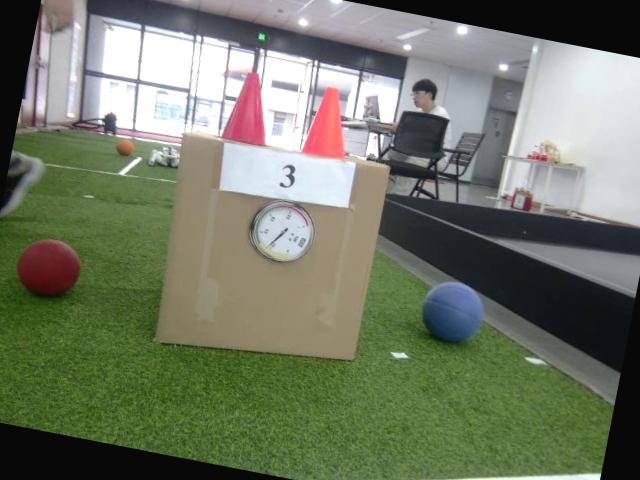3: (273, 160, 299, 192)
Dashboard: (242, 193, 318, 268)
blue_ball: (417, 274, 488, 349)
orange_ball: (116, 138, 136, 157)
orange_barrel: (292, 81, 360, 164)
red_ball: (10, 233, 85, 303)
red_barrel: (214, 64, 284, 148)
ssi: (296, 235, 306, 248)
